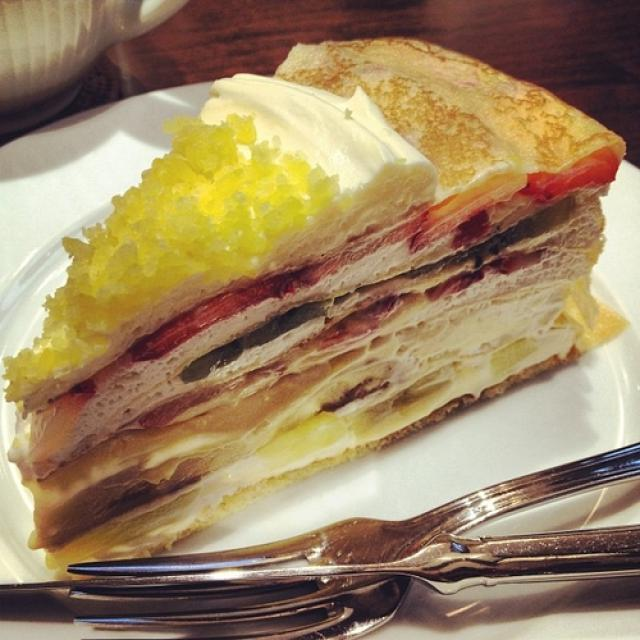蛋糕甜品: (29, 34, 599, 620)
